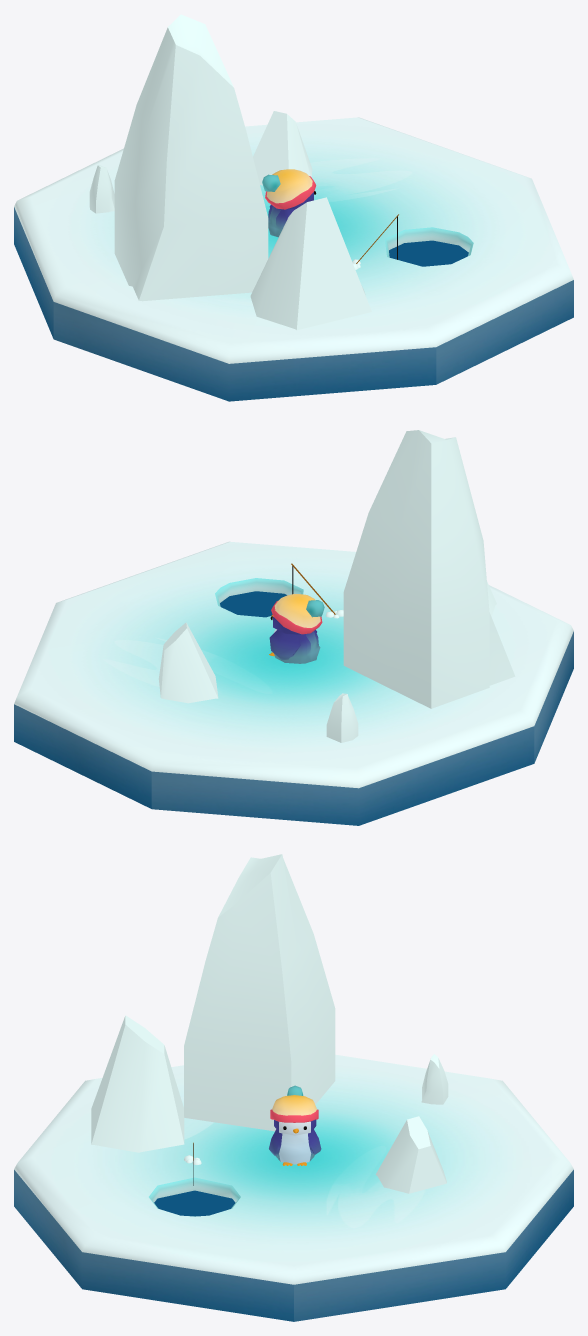
The model's file is lonely_little_penguin-v1.glb.
The picture shows the model from 3 angles, top to bottom: view 1: azimuth 30°, elevation 25°; view 2: azimuth 150°, elevation 25°; view 3: azimuth 270°, elevation 25°; orthographic projection.
Visible parts, largest first — view 1: Object_10, Object_5, Object_9, Object_7; view 2: Object_10, Object_5, Object_9, Object_7; view 3: Object_10, Object_5, Object_7, Object_9.
Part boxes in pixels (x1,y1,x2,y2): Object_10: (14, 117, 573, 401); Object_5: (89, 14, 371, 330); Object_9: (262, 169, 316, 209); Object_7: (268, 192, 313, 237); Object_10: (14, 541, 573, 825); Object_5: (158, 430, 515, 742); Object_9: (271, 594, 324, 634); Object_7: (269, 616, 320, 663); Object_10: (14, 1054, 573, 1321); Object_5: (91, 854, 448, 1193); Object_7: (269, 1119, 321, 1164); Object_9: (270, 1085, 318, 1122).
Bounding box in the file's own units: 105 × 62.77 × 108.
8 materials, 5 textured.
